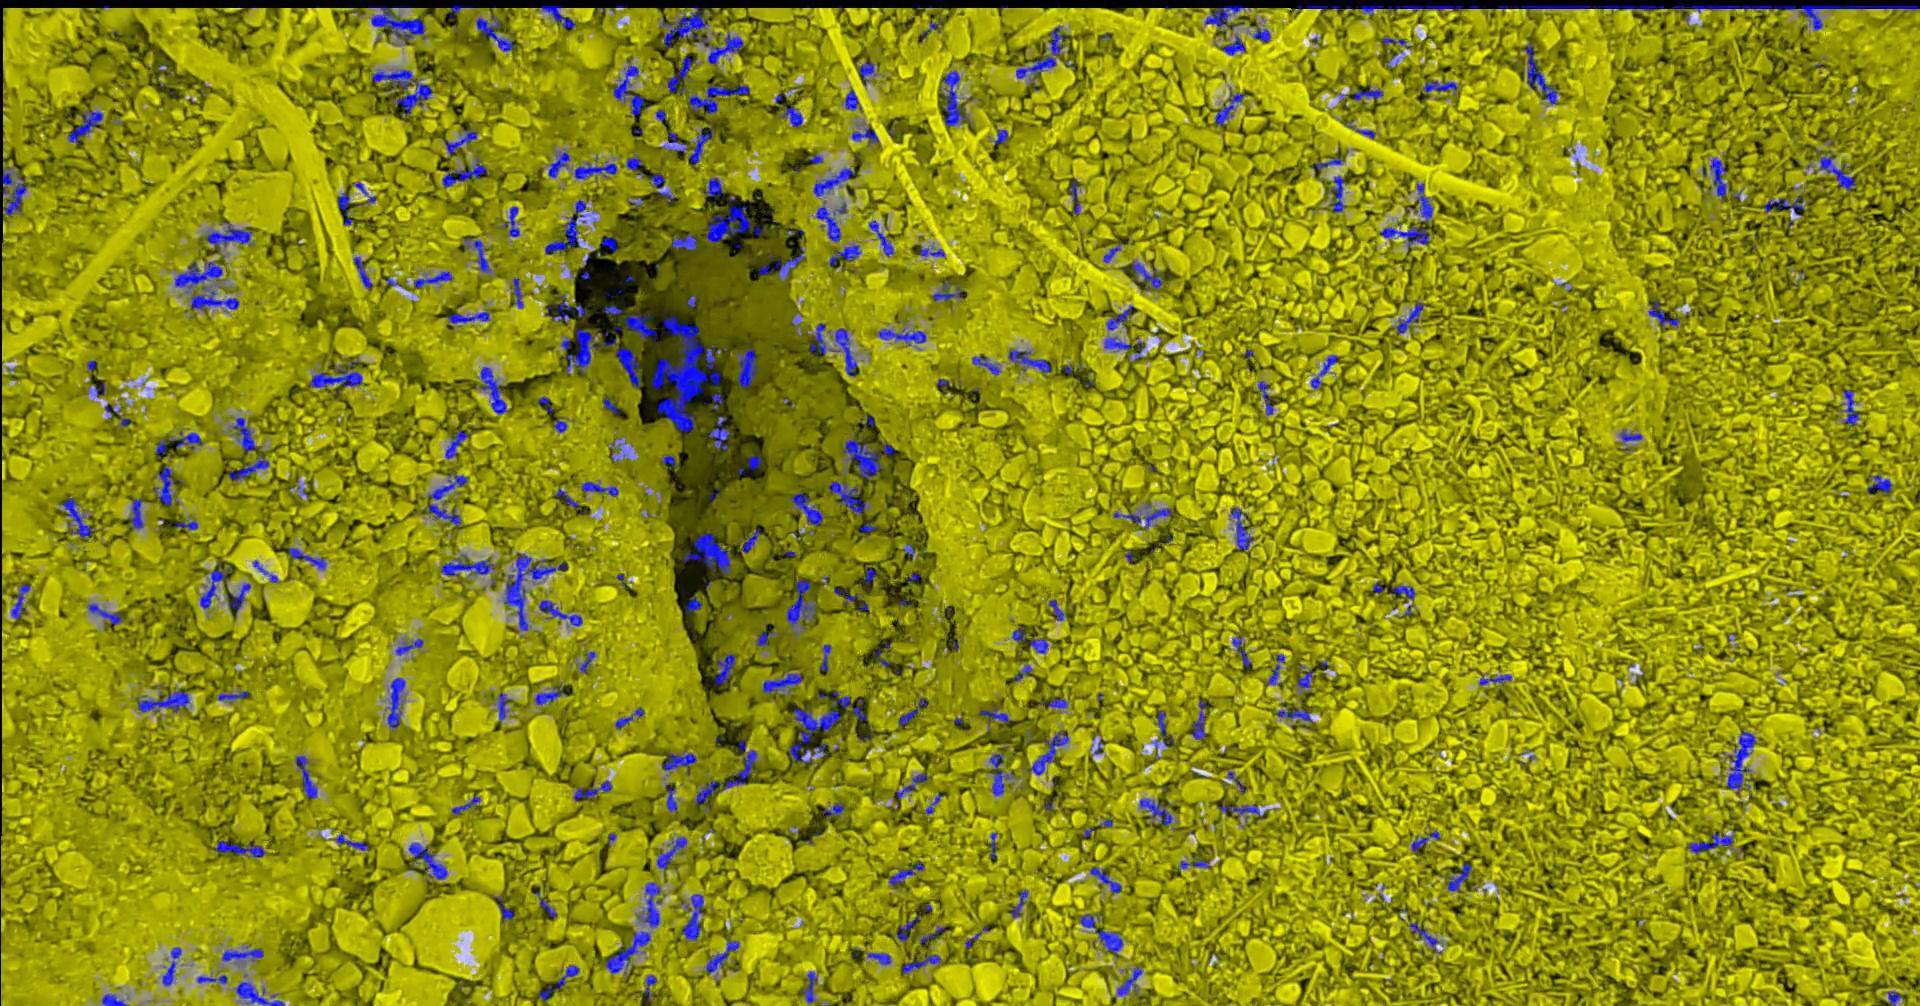ant: (1671, 4, 1919, 29), (695, 738, 756, 810), (789, 705, 841, 762), (371, 69, 432, 117), (1015, 25, 1065, 80), (809, 323, 857, 376), (543, 199, 588, 254), (566, 328, 616, 373), (367, 5, 425, 43), (1524, 43, 1557, 103), (683, 532, 731, 573), (604, 931, 650, 973), (1079, 913, 1123, 956), (688, 83, 749, 113), (1726, 730, 1755, 793), (705, 205, 749, 243), (1030, 730, 1068, 774), (938, 70, 968, 126), (204, 220, 253, 253), (843, 438, 883, 478), (408, 842, 446, 882), (199, 561, 231, 608), (309, 359, 362, 387), (1355, 4, 1484, 15), (475, 366, 505, 414), (786, 578, 817, 626), (475, 15, 516, 51), (61, 497, 95, 539), (1205, 4, 1250, 36), (1380, 225, 1429, 254), (1818, 152, 1855, 191), (538, 965, 579, 1000), (811, 166, 858, 196), (442, 156, 486, 187), (174, 260, 222, 288), (0, 166, 25, 218), (155, 431, 202, 459), (897, 903, 931, 941), (815, 199, 846, 241), (1112, 507, 1171, 528), (705, 937, 738, 976), (439, 553, 493, 575), (235, 981, 284, 1005), (190, 286, 237, 311), (67, 111, 103, 144), (545, 295, 587, 323), (828, 481, 865, 513), (152, 466, 182, 506), (427, 471, 467, 499), (612, 57, 637, 102), (137, 690, 189, 711), (574, 154, 616, 180), (1214, 86, 1243, 124), (667, 56, 695, 95), (538, 600, 582, 625), (1007, 349, 1051, 373), (1404, 183, 1432, 221), (615, 345, 640, 387), (790, 492, 822, 525), (637, 882, 660, 927), (681, 894, 703, 940), (989, 752, 1013, 795), (657, 836, 686, 871), (229, 455, 269, 480), (895, 767, 927, 799), (443, 124, 477, 154), (1230, 507, 1253, 550), (762, 669, 803, 694), (775, 246, 804, 279), (1688, 832, 1732, 854), (463, 238, 491, 272), (735, 348, 759, 387), (1011, 627, 1048, 653), (295, 754, 316, 798), (1131, 260, 1163, 290), (1408, 923, 1440, 953), (623, 312, 657, 340), (688, 128, 712, 166), (387, 677, 405, 728), (877, 326, 924, 345), (1648, 296, 1677, 326), (538, 4, 575, 28), (869, 220, 893, 257), (1396, 301, 1423, 333), (1139, 798, 1171, 826), (1310, 354, 1337, 387), (215, 840, 264, 857), (1709, 158, 1730, 201), (888, 861, 923, 885), (898, 697, 928, 725), (1090, 866, 1121, 893), (1497, 4, 1663, 9), (1217, 804, 1263, 822), (287, 547, 325, 569), (573, 780, 611, 801), (225, 583, 250, 615), (663, 749, 696, 774), (232, 417, 255, 451), (1326, 175, 1346, 212), (161, 948, 182, 984), (648, 173, 673, 202), (932, 279, 966, 301), (709, 415, 730, 450), (427, 503, 461, 525), (88, 603, 122, 625), (902, 954, 940, 973), (535, 885, 556, 918), (1154, 710, 1173, 747), (1764, 196, 1803, 213), (829, 244, 861, 265), (1106, 305, 1133, 330), (10, 583, 29, 619), (494, 691, 513, 727), (329, 832, 367, 850), (444, 431, 469, 459), (1411, 829, 1439, 854), (1117, 967, 1142, 995), (352, 257, 372, 290), (714, 653, 735, 683), (1276, 705, 1313, 723), (413, 271, 452, 287), (1191, 700, 1208, 739), (777, 102, 803, 127), (1263, 653, 1284, 685), (1448, 862, 1470, 890), (221, 946, 263, 962), (1843, 387, 1859, 426), (535, 685, 568, 704), (447, 311, 488, 326), (1230, 635, 1250, 667), (615, 708, 644, 728), (971, 354, 999, 375), (451, 795, 479, 815), (800, 970, 817, 1005), (491, 895, 514, 920), (547, 151, 569, 177), (1867, 474, 1892, 495), (554, 486, 579, 508), (502, 206, 519, 236), (1257, 380, 1272, 415), (582, 481, 618, 495), (851, 124, 877, 144), (337, 191, 352, 224), (395, 638, 423, 655), (1010, 889, 1027, 917), (630, 94, 649, 119), (1422, 80, 1457, 94), (1225, 771, 1247, 793), (979, 706, 1010, 721), (670, 232, 696, 250), (742, 527, 759, 553), (833, 587, 858, 605), (919, 926, 945, 944), (354, 182, 375, 203), (921, 18, 943, 37), (1222, 36, 1244, 55), (667, 130, 686, 152), (1352, 86, 1383, 100), (130, 498, 143, 528), (1068, 177, 1079, 213), (664, 782, 677, 815), (509, 278, 523, 307), (1389, 584, 1415, 600), (577, 652, 596, 672), (756, 625, 773, 647), (1310, 158, 1343, 169), (703, 177, 723, 196), (1103, 243, 1123, 262), (924, 793, 942, 813), (844, 89, 861, 111), (1103, 337, 1130, 349), (830, 690, 850, 708), (644, 976, 657, 1002), (448, 4, 472, 18), (858, 61, 872, 85), (217, 690, 250, 700), (851, 699, 866, 720), (822, 801, 843, 817), (1479, 674, 1511, 685), (1382, 37, 1410, 48), (1297, 668, 1313, 687), (1048, 600, 1063, 620), (1178, 857, 1209, 868), (819, 644, 830, 671), (102, 993, 128, 1005), (602, 395, 618, 413), (684, 596, 701, 614), (1012, 664, 1030, 681), (867, 951, 890, 964), (1039, 697, 1067, 708), (1295, 4, 1350, 9), (919, 245, 943, 257), (1252, 25, 1270, 41), (599, 236, 617, 251), (874, 649, 889, 667), (197, 974, 227, 983), (858, 521, 877, 535), (626, 156, 643, 171), (537, 396, 552, 413), (1620, 429, 1641, 441), (662, 453, 676, 469), (745, 455, 759, 470), (863, 567, 876, 583), (174, 520, 197, 528), (603, 304, 622, 314), (552, 419, 568, 432), (989, 832, 996, 862), (711, 392, 723, 409), (994, 130, 1007, 144), (1887, 991, 1900, 1005)
